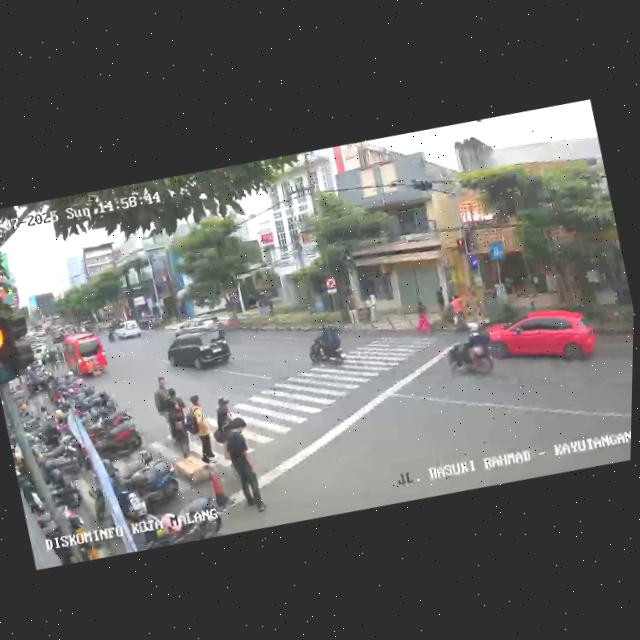car: (476, 289, 605, 389), (160, 319, 237, 381), (58, 327, 111, 383), (112, 316, 145, 345)
motorcycle: (436, 317, 498, 386), (301, 319, 348, 371)
person: (220, 414, 268, 512), (204, 394, 243, 463), (162, 384, 197, 459), (147, 372, 183, 439), (184, 391, 214, 448), (409, 297, 434, 335), (445, 292, 467, 327), (363, 290, 382, 323), (342, 292, 360, 324)
